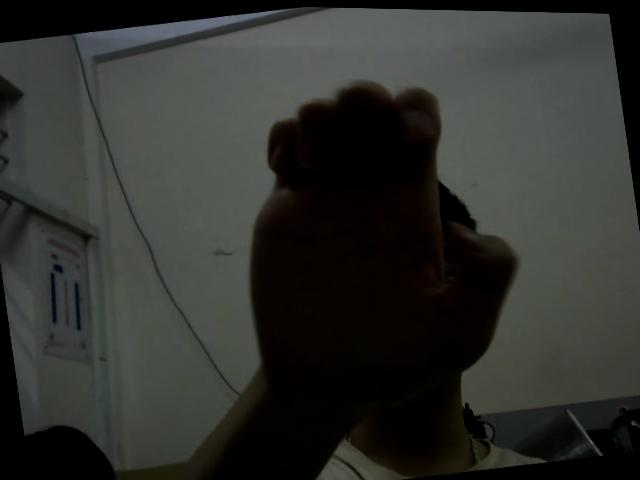E: (220, 57, 532, 419)
